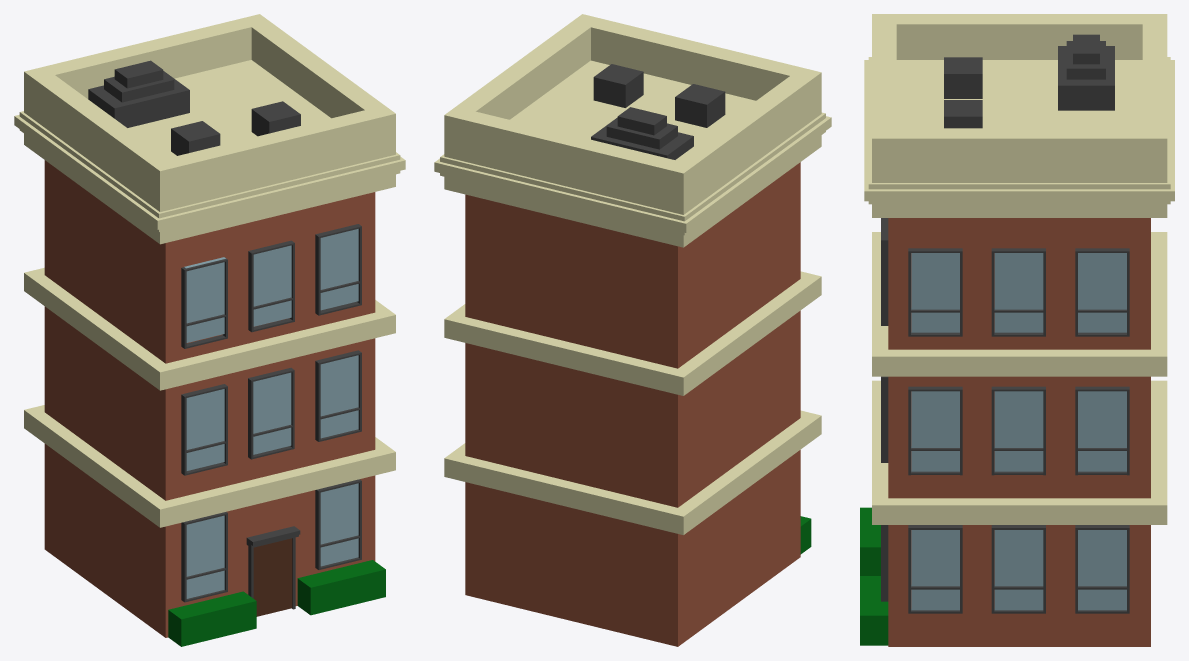
Rendered from building1_textured.fbx.
3 views of the same model, side by side, from view 1: azimuth 30°, elevation 25°; view 2: azimuth 150°, elevation 25°; view 3: azimuth 270°, elevation 25° (orthographic). The views are drawn at different scales.
Visible parts, largest first — view 1: polySurface270; view 2: polySurface270; view 3: polySurface270.
Boxes of the visible parts, box(x1,y1,x2,y2) form: polySurface270: box(14, 14, 405, 646); polySurface270: box(434, 14, 831, 646); polySurface270: box(860, 14, 1174, 646).
Bounding box in the file's own units: 14.2 × 26.56 × 14.4.
